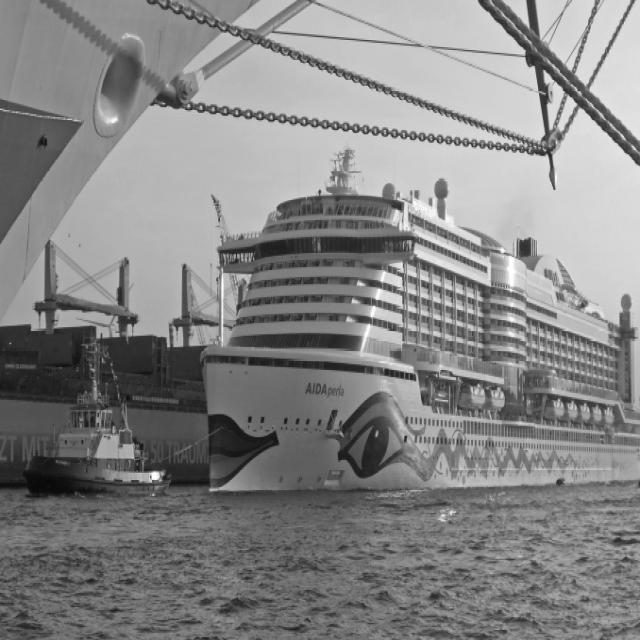cruises: (195, 140, 640, 507)
